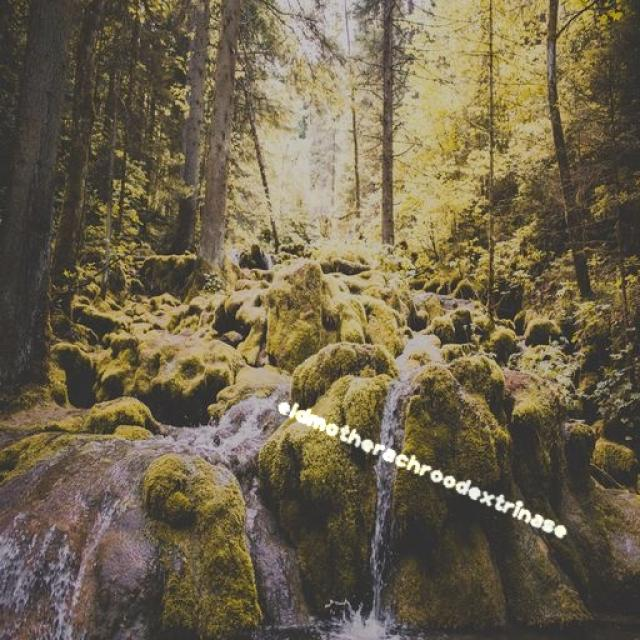watermark: (270, 395, 578, 543)
